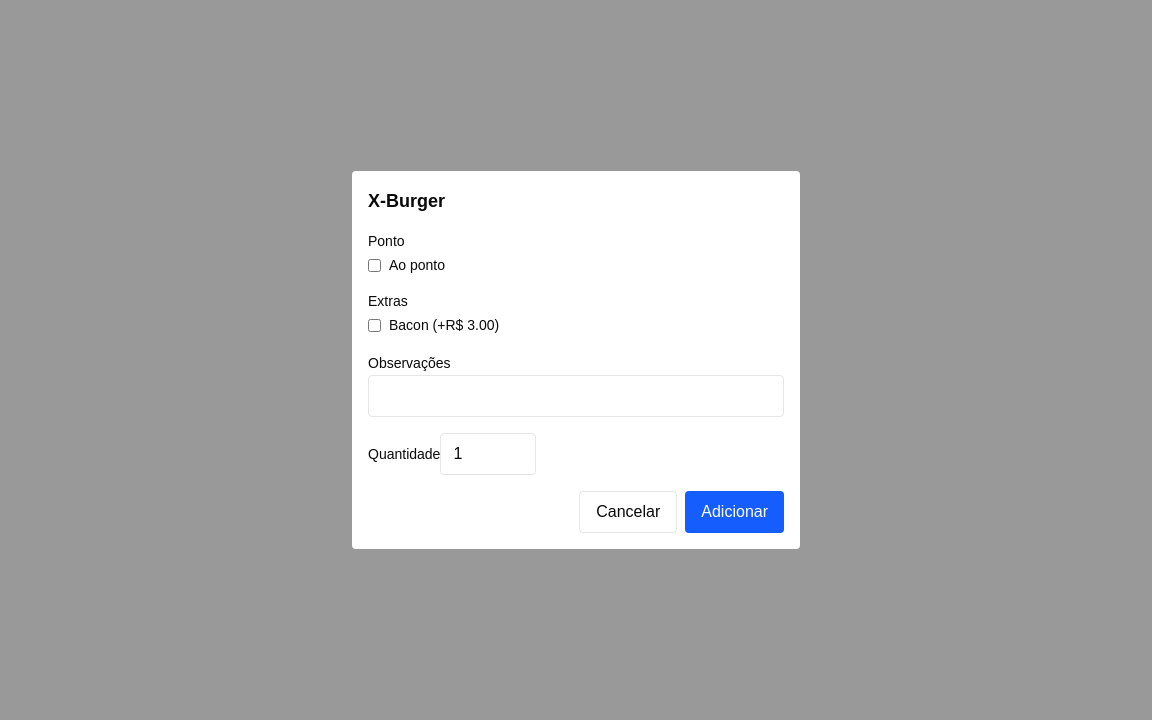
Test case: ModifierDialog › bloqueia confirmação sem grupo obrigatório
The width and height of the screenshot is (1152, 720).
Click the button "Adicionar" at (735, 512), box x1=685 y1=491 x2=784 y2=533
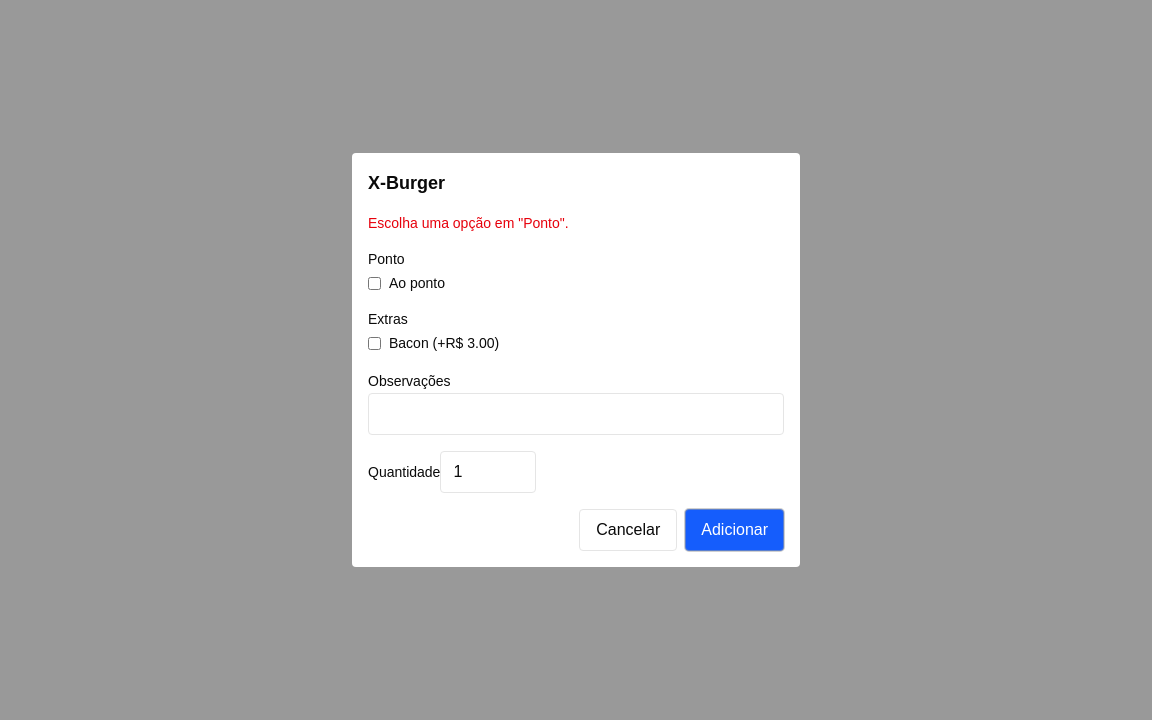
Check: the message "Escolha uma opção em \"Ponto\"." is shown, box x1=368 y1=215 x2=569 y2=231
